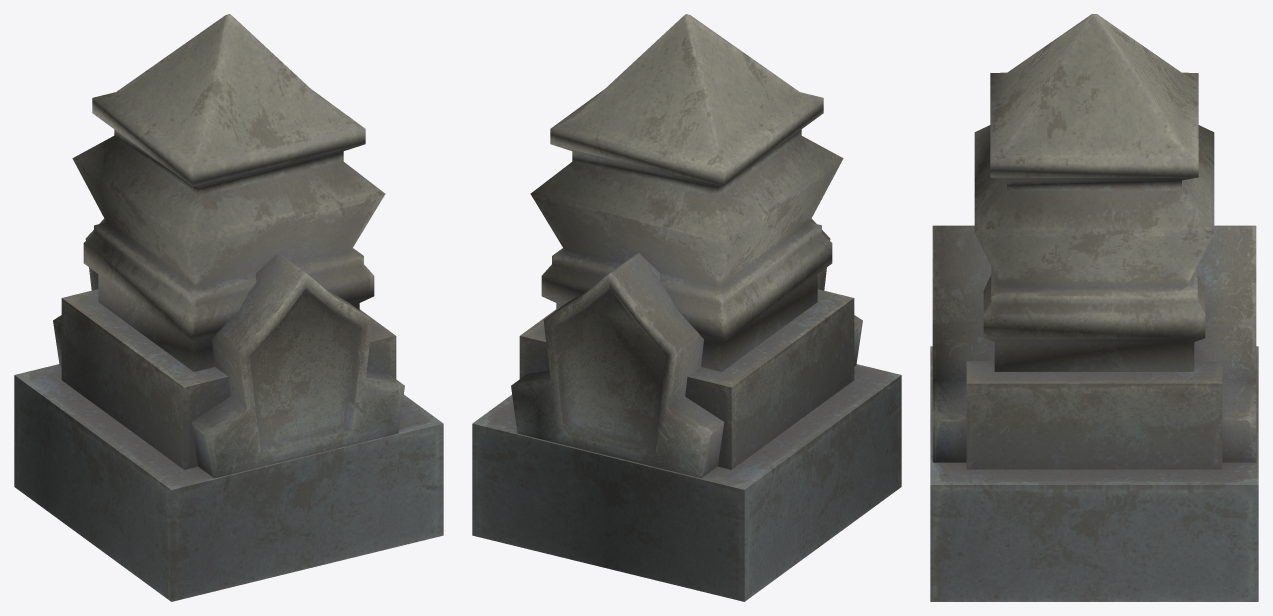
The model's file is AD_Pillar_G_01.fbx.
3 views of the same model, side by side, from view 1: azimuth 30°, elevation 25°; view 2: azimuth 150°, elevation 25°; view 3: azimuth 270°, elevation 25° (orthographic). The views are drawn at different scales.
Parts seen in each view (by area): view 1: AD_Pillar_G_01; view 2: AD_Pillar_G_01; view 3: AD_Pillar_G_01.
Boxes of the visible parts, x1=… form: AD_Pillar_G_01: x1=14, y1=14, x2=443, y2=601; AD_Pillar_G_01: x1=472, y1=14, x2=901, y2=601; AD_Pillar_G_01: x1=930, y1=14, x2=1258, y2=601.
Size of the model in its own units: 263 by 458 by 263.
1 material, 1 textured.
